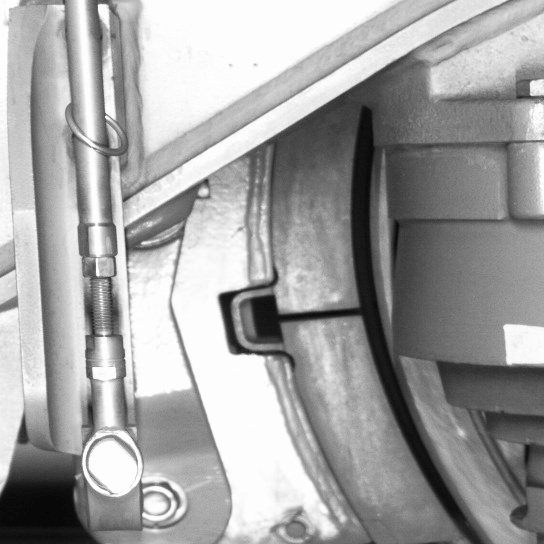KnifeSwitch: (283, 143, 499, 540)
